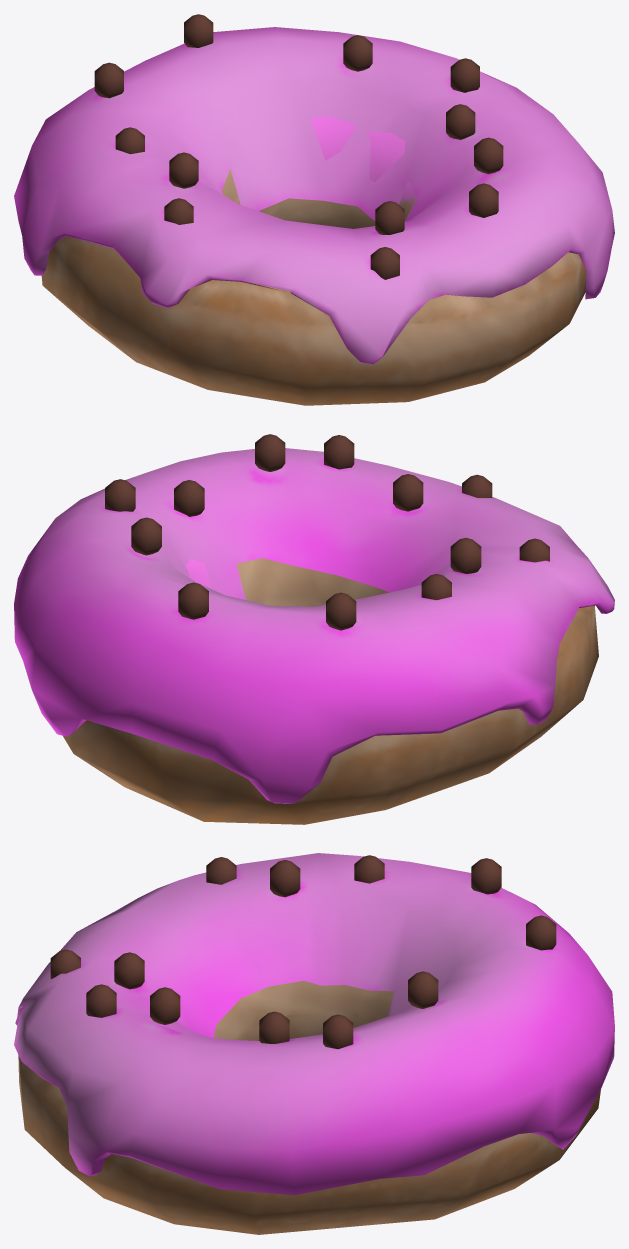
The model's file is tort54.fbx.
3 views of the same model, one above another, from view 1: azimuth 30°, elevation 25°; view 2: azimuth 150°, elevation 25°; view 3: azimuth 270°, elevation 25° (orthographic). The views are drawn at different scales.
Parts seen in each view (by area): view 1: Cube_21_low; view 2: Cube_21_low; view 3: Cube_21_low.
Part boxes in pixels (bbox=[...]): Cube_21_low: bbox=[14, 14, 614, 405]; Cube_21_low: bbox=[14, 434, 614, 824]; Cube_21_low: bbox=[14, 853, 614, 1234].
Bounding box in the file's own units: 83.46 × 35.14 × 82.08.
